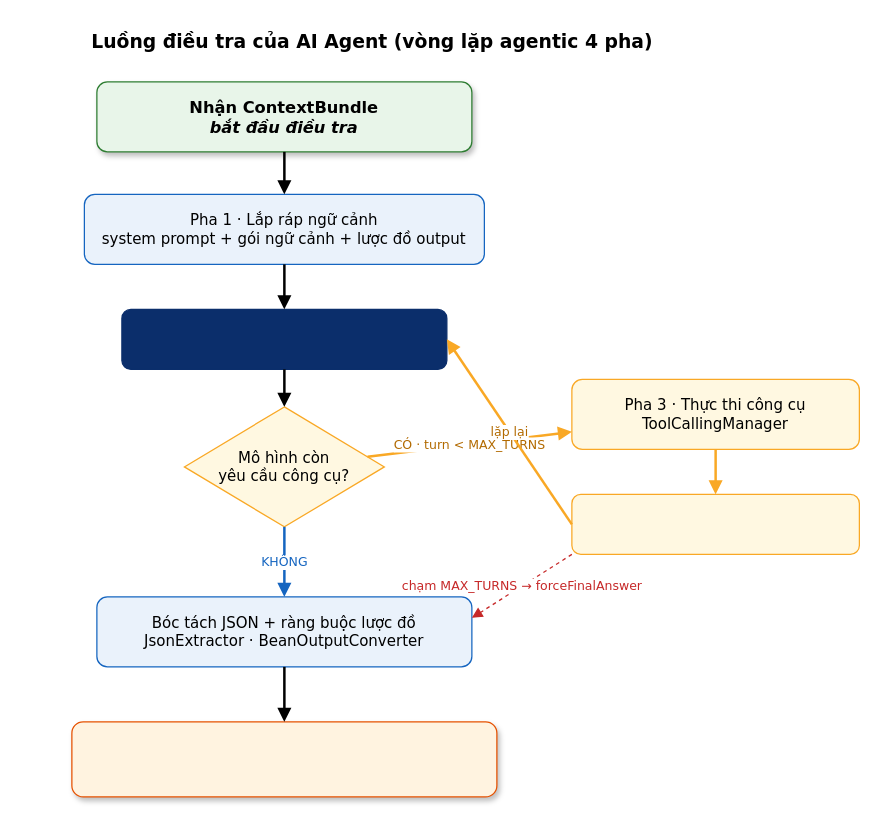
The diagram is 881 pixels wide and 828 high, and some of its shapes have lost their labels. The centre of each missing label's shape, as x and y in pixels:
IncidentReport chẩn đoán có cấu trúc: severity · root cause · findings · actions: the point at 285,761
Pha 2 · Gọi mô hình (ChatModel): the point at 284,338
Pha 4 · Đưa kết quả công cụ trở lại: the point at 715,523
